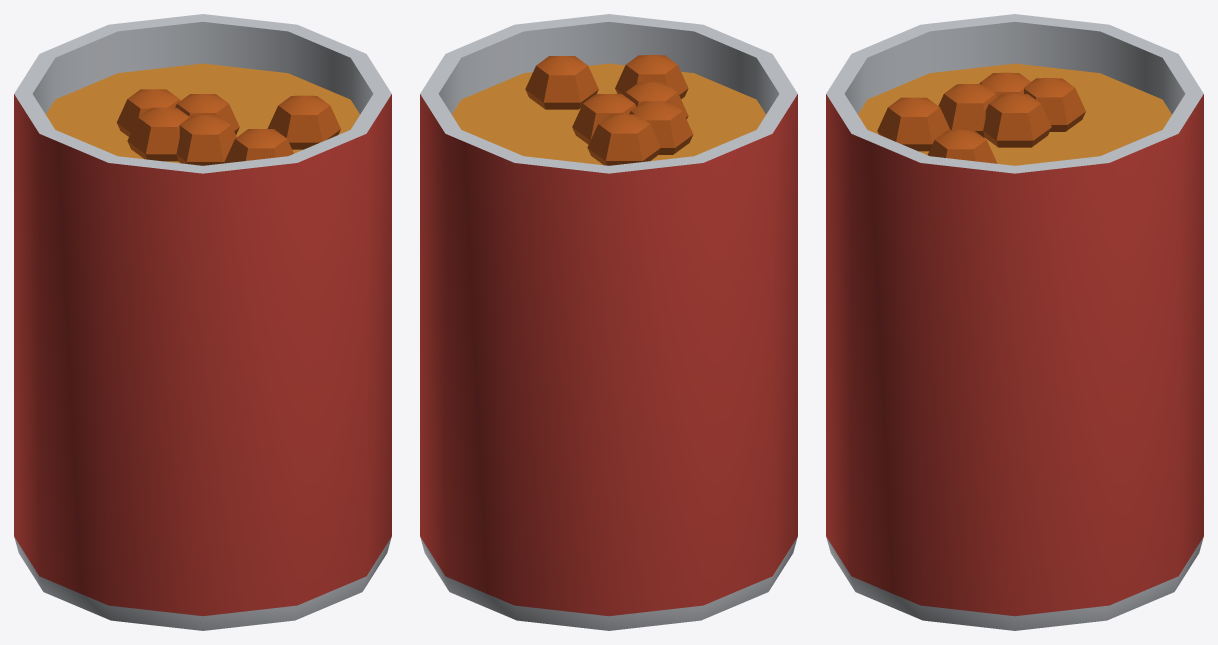
Rendered from SM_Tin_Can_Open.glb.
3 views of the same model, side by side, from view 1: azimuth 30°, elevation 25°; view 2: azimuth 150°, elevation 25°; view 3: azimuth 270°, elevation 25° (orthographic).
Parts seen in each view (by area): view 1: SM_Tin_Can_Open; view 2: SM_Tin_Can_Open; view 3: SM_Tin_Can_Open.
Boxes of the visible parts, x1,y1,x2,y2 form: SM_Tin_Can_Open: (14,14,391,630); SM_Tin_Can_Open: (420,14,797,630); SM_Tin_Can_Open: (826,14,1203,630).
Bounding box in the file's own units: 0.082 × 0.11 × 0.082.
Materials: 1 (1 with a texture image).
